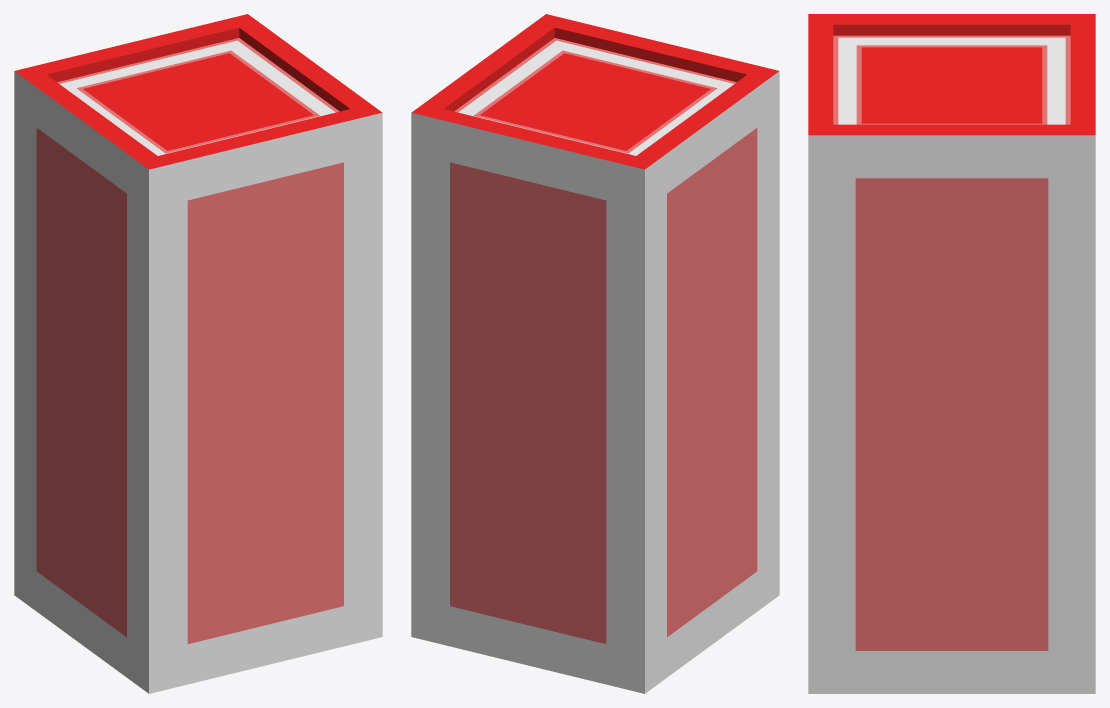
File: PillarRed.glb
3 views of the same model, side by side, from view 1: azimuth 30°, elevation 25°; view 2: azimuth 150°, elevation 25°; view 3: azimuth 270°, elevation 25° (orthographic). The views are drawn at different scales.
Parts seen in each view (by area): view 1: Cube.002; view 2: Cube.002; view 3: Cube.002.
Boxes of the visible parts, x1,y1,x2,y2 form: Cube.002: [14, 14, 382, 693]; Cube.002: [411, 14, 779, 693]; Cube.002: [808, 14, 1095, 693].
Size of the model in its own units: 1.84 by 4.01 by 1.84.
1 material, 1 textured.
